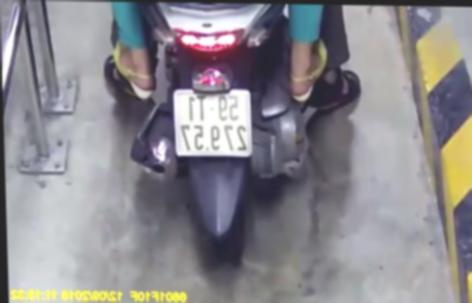License_Plate: (165, 86, 258, 165)
